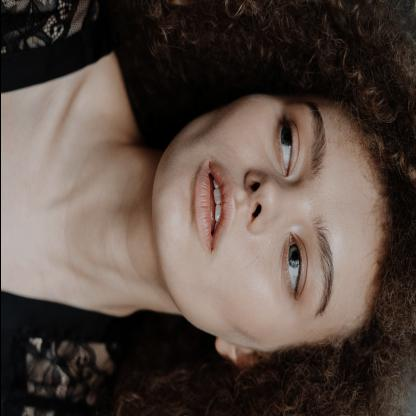Eye: (278, 229, 309, 308), (272, 112, 300, 182)
Mouth: (190, 148, 236, 258)
Nose: (240, 160, 296, 240)
